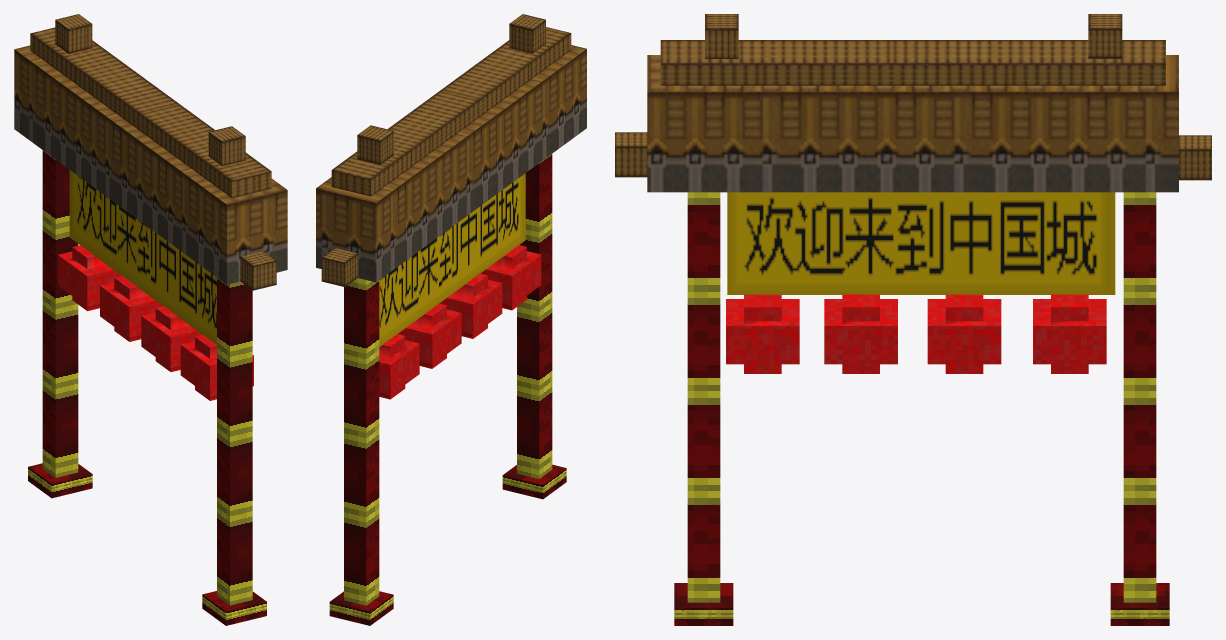
The model's file is BGN_CHINA TOWN GATE 2.fbx.
The picture shows the model from 3 angles, left to right: view 1: azimuth 30°, elevation 25°; view 2: azimuth 150°, elevation 25°; view 3: azimuth 270°, elevation 25°; orthographic projection. The views are drawn at different scales.
Parts seen in each view (by area): view 1: BGN_CHINA_TOWN_GATE_2; view 2: BGN_CHINA_TOWN_GATE_2; view 3: BGN_CHINA_TOWN_GATE_2.
Boxes of the visible parts, box(x1,y1,x2,y2) form: BGN_CHINA_TOWN_GATE_2: box(14, 14, 287, 625); BGN_CHINA_TOWN_GATE_2: box(316, 14, 586, 625); BGN_CHINA_TOWN_GATE_2: box(615, 14, 1211, 625).
Size of the model in its own units: 259 by 1929 by 1762.
